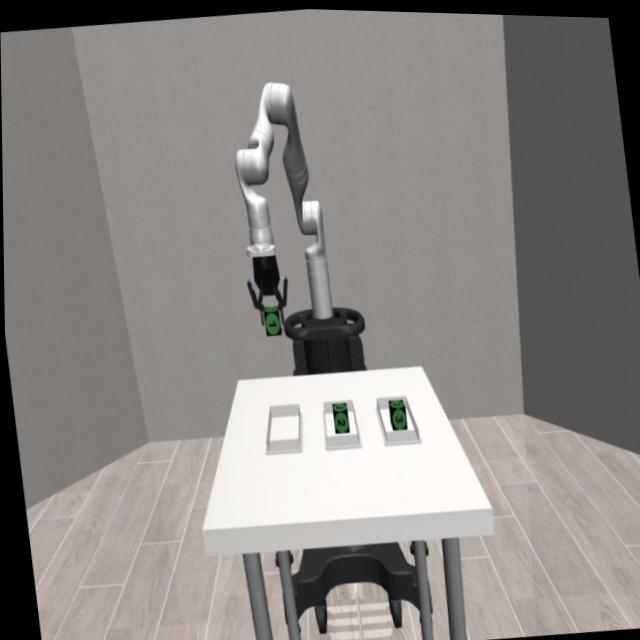cube1: (262, 304, 281, 334)
cube2: (329, 398, 349, 434)
cube3: (387, 395, 406, 428)
